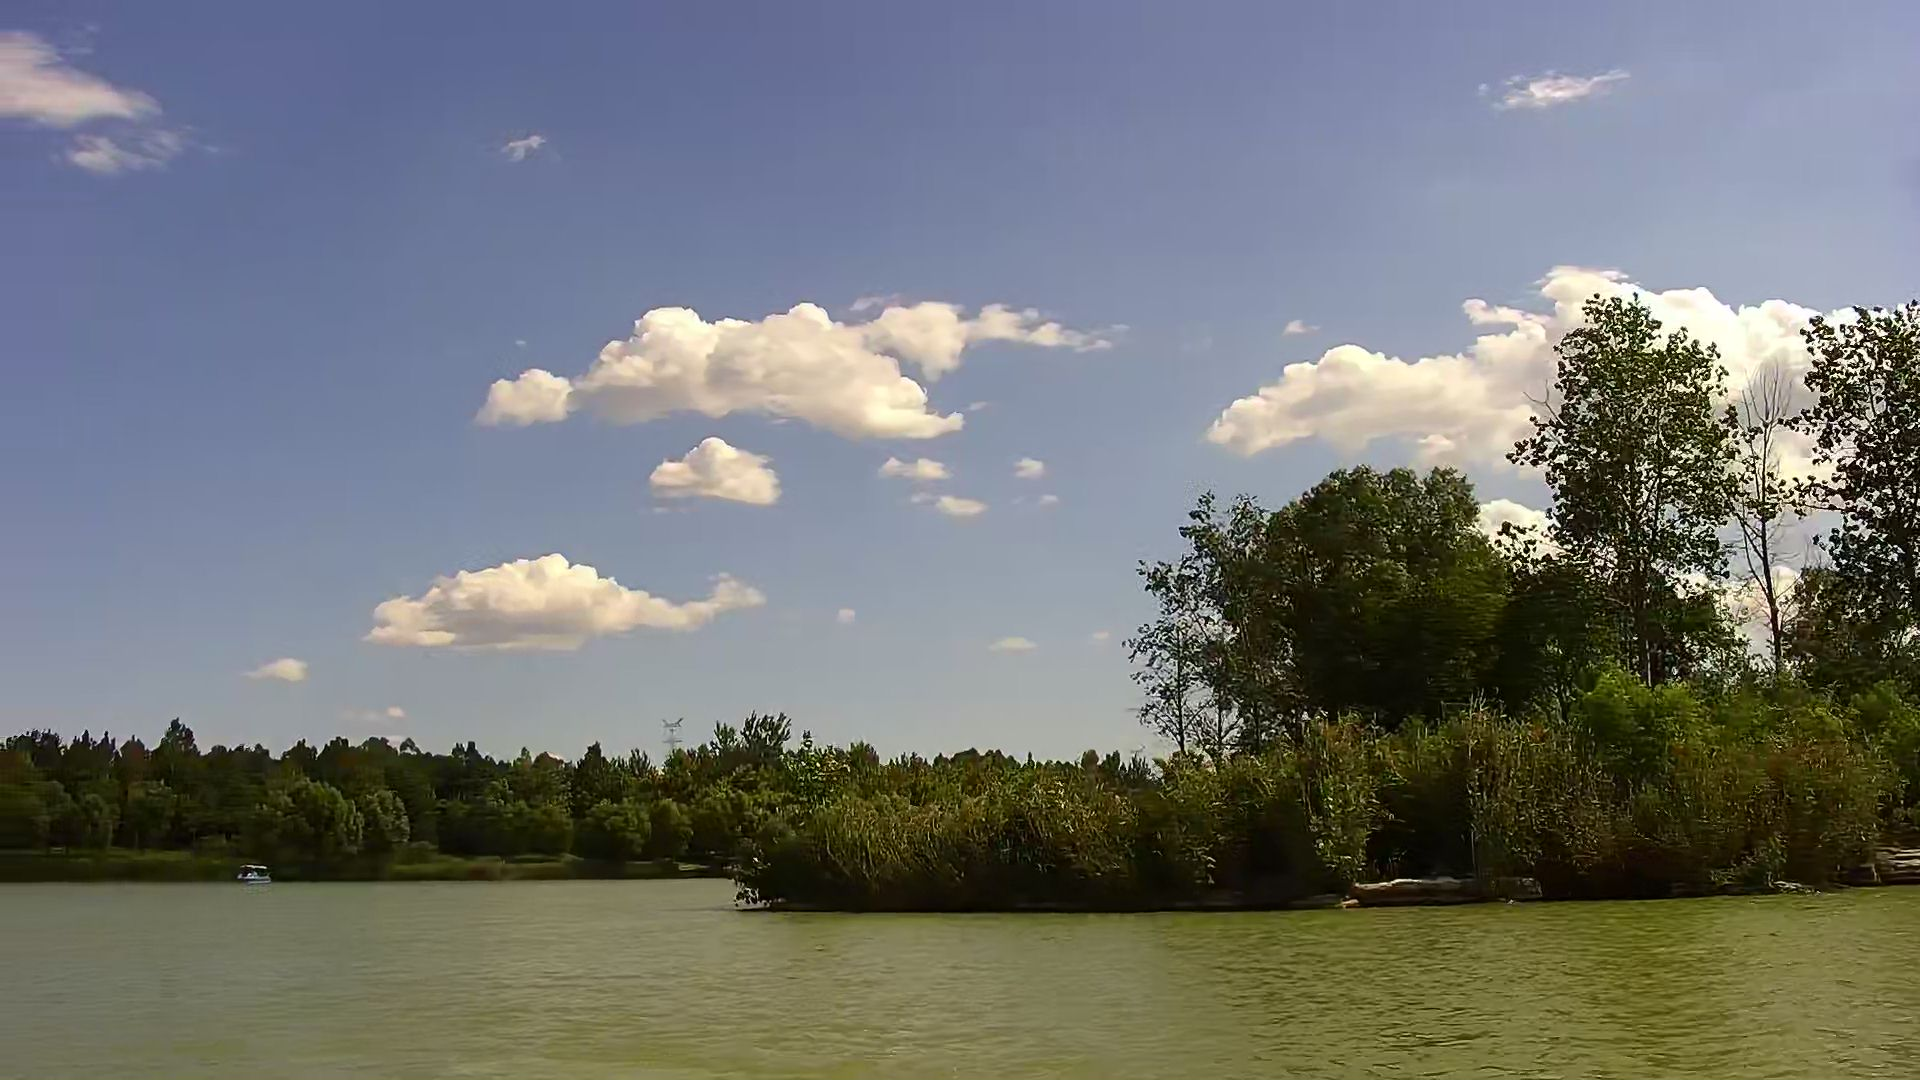boat: (233, 862, 274, 885)
